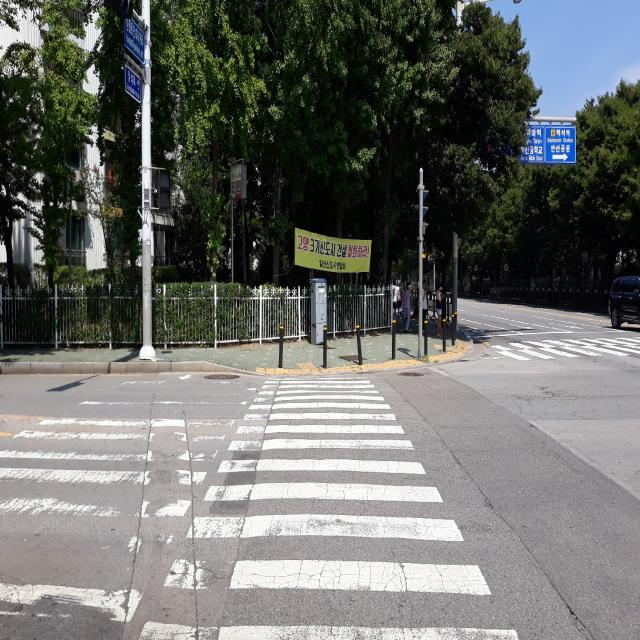횡단보도: (0, 372, 520, 640), (475, 336, 639, 358)
